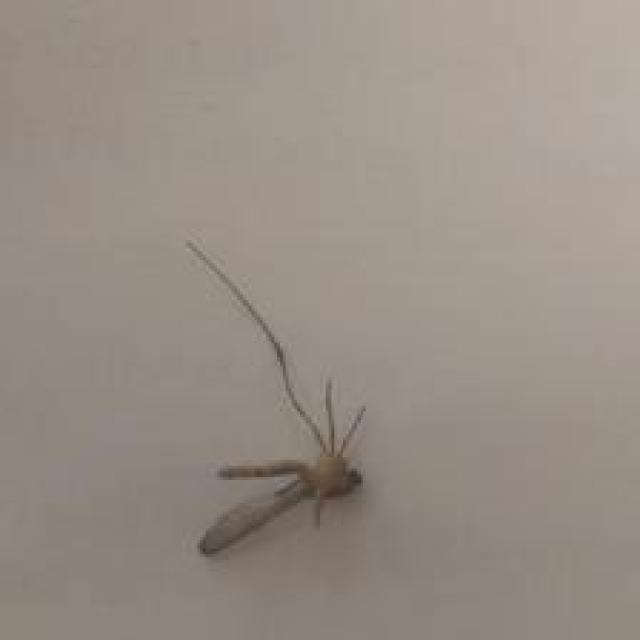Culex: (183, 237, 368, 557)
